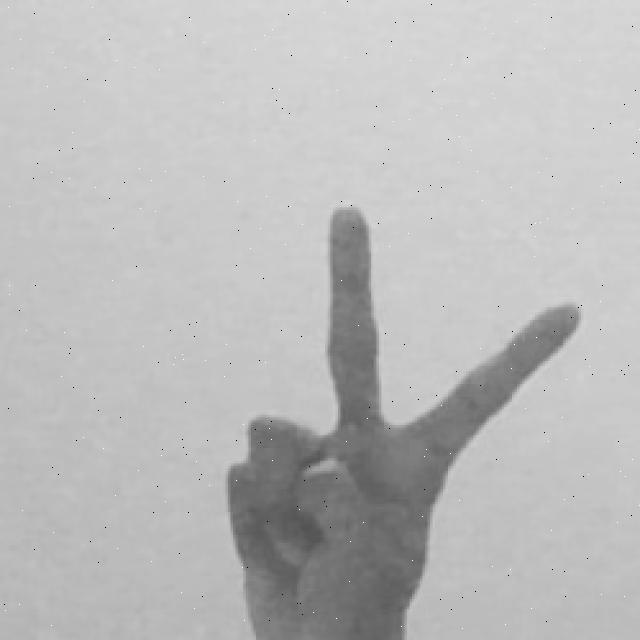V: (223, 197, 586, 640)
